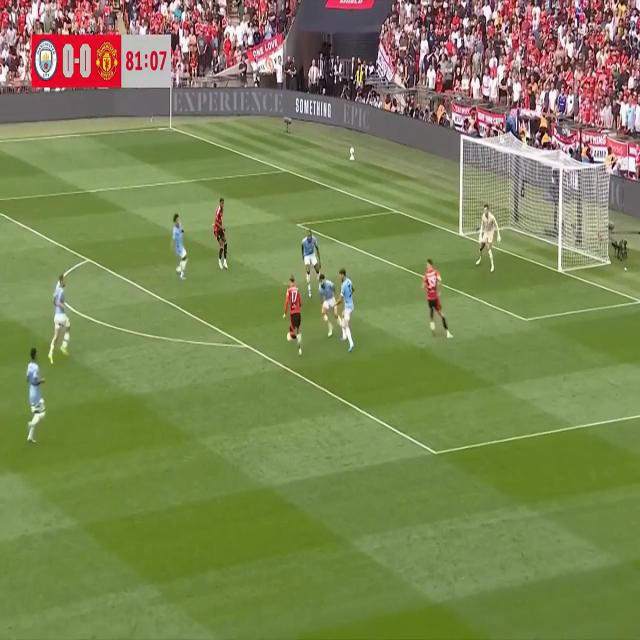ball: (285, 327, 296, 353)
goal_keeper: (474, 197, 504, 279)
players: (44, 268, 76, 369), (420, 251, 454, 344), (294, 218, 330, 304), (315, 263, 348, 349), (24, 344, 48, 447), (276, 268, 304, 356), (209, 187, 236, 278), (336, 268, 358, 356), (170, 208, 192, 292)
